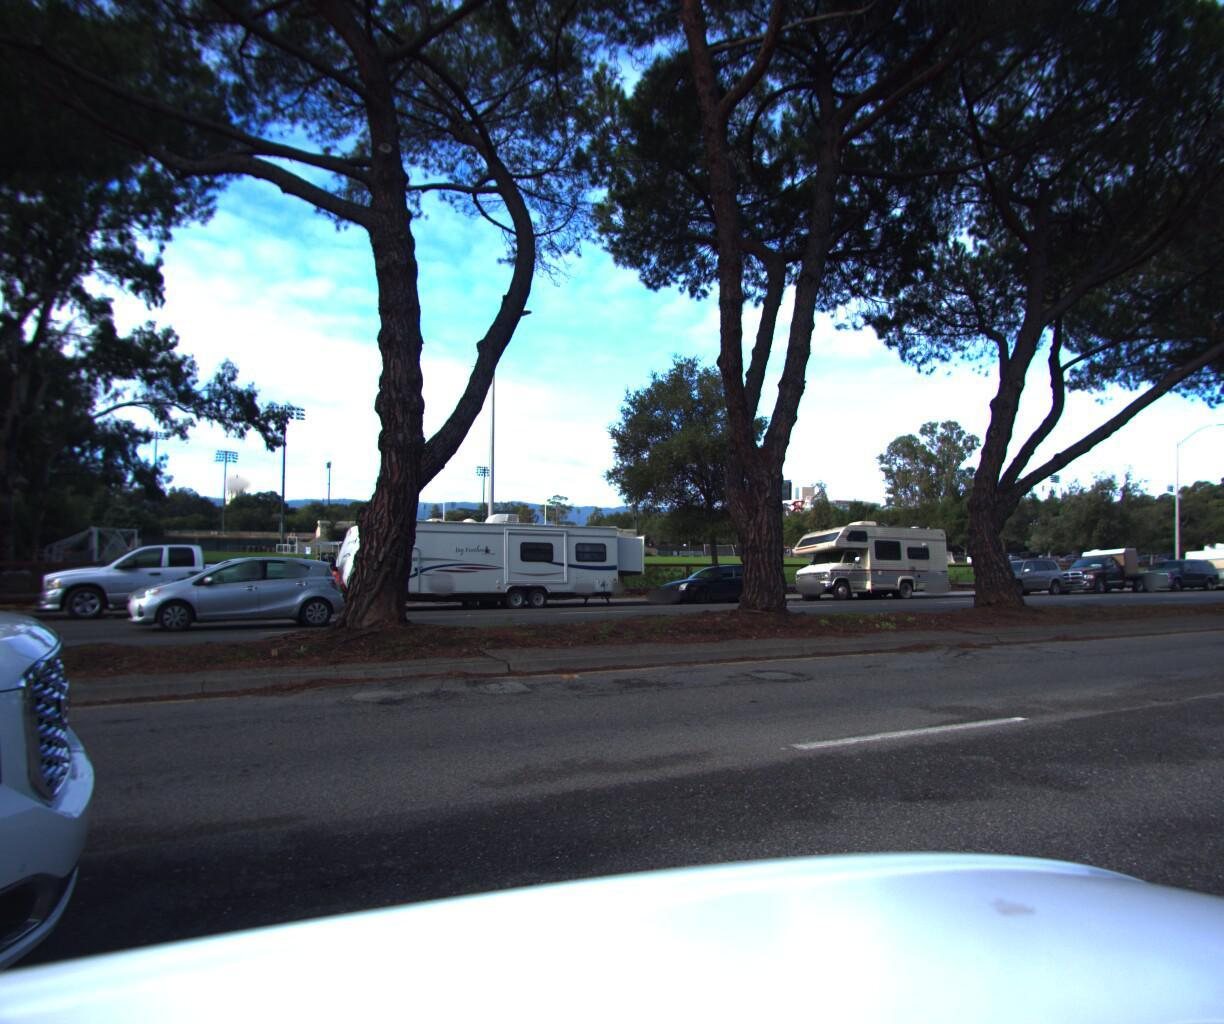car: (19, 536, 302, 624), (117, 550, 341, 633), (1033, 539, 1160, 595), (650, 556, 788, 607), (968, 555, 1067, 598), (1131, 552, 1215, 593)
other_vehicle: (292, 493, 659, 611), (777, 511, 958, 601), (1175, 538, 1224, 585)
